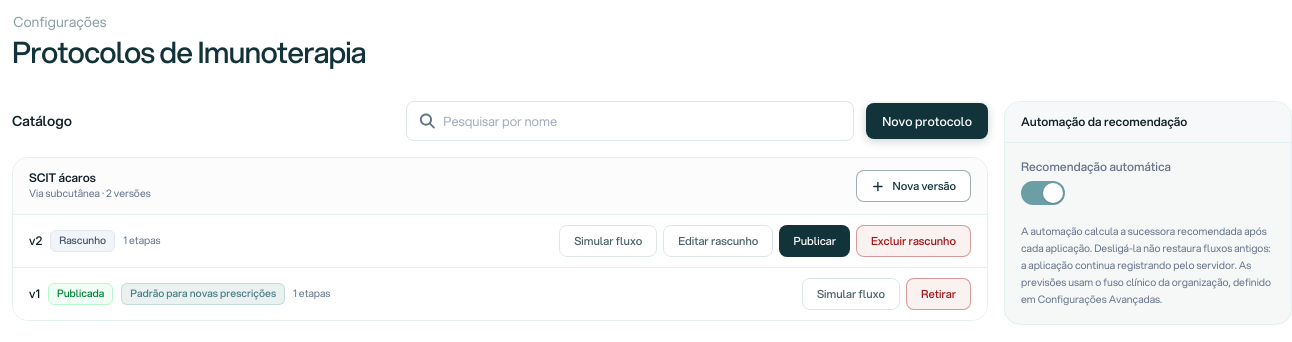
Scenario: decisão por código de erro › falha inesperada da automação não fica silenciosa
Click the switch named "recomendação automática".
click(1043, 193)  # box [1021,181,1065,205]
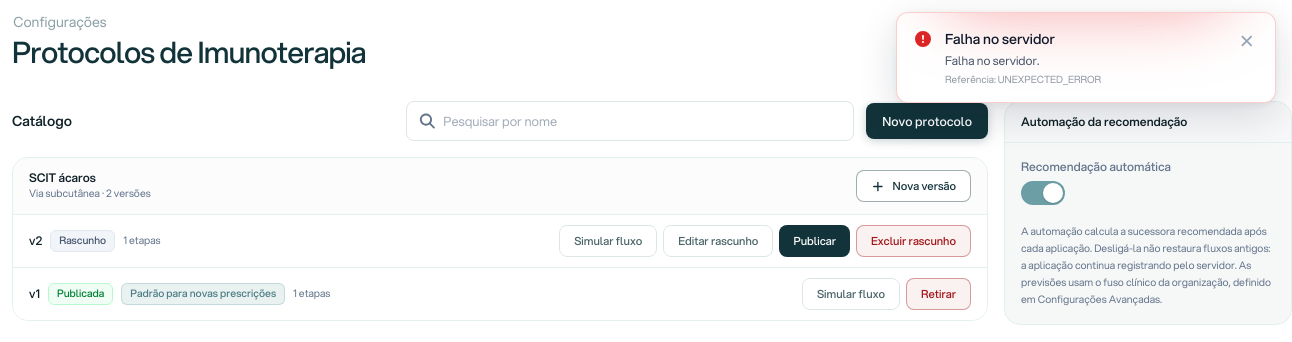
Expected: the text "Falha no servidor" is shown, [945,29,1055,49]
